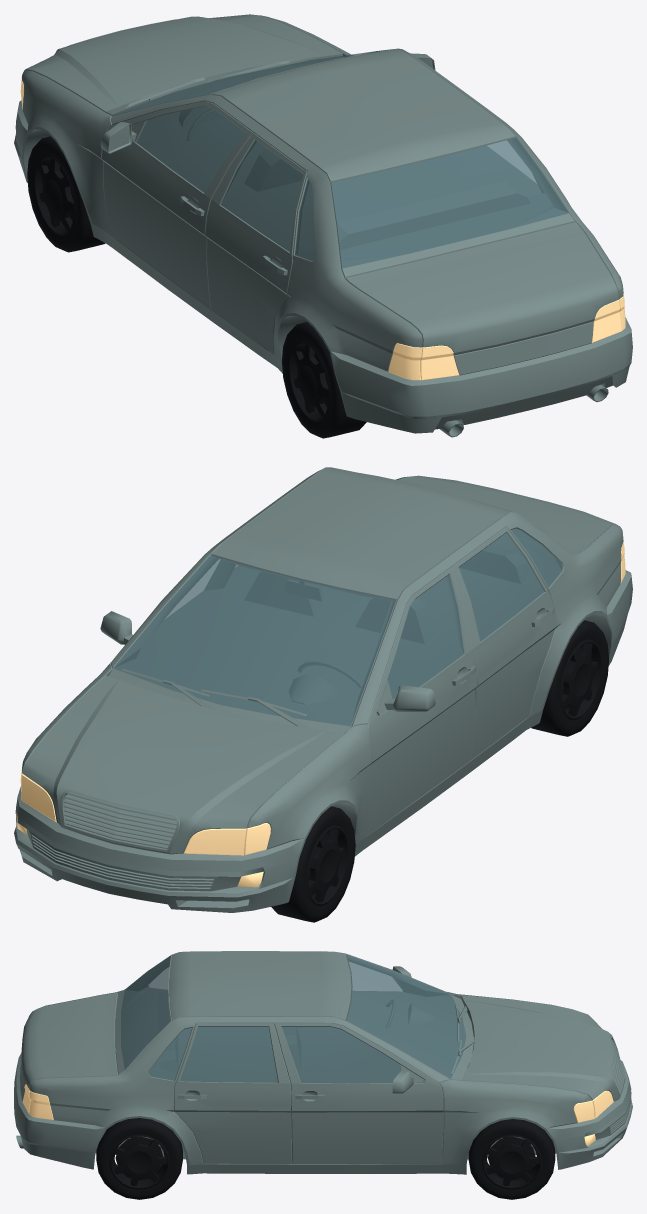
Rendered from sedan.glb.
3 views of the same model, one above another, from view 1: azimuth 30°, elevation 25°; view 2: azimuth 150°, elevation 25°; view 3: azimuth 270°, elevation 25° (orthographic). The views are drawn at different scales.
Visible parts, largest first — view 1: Sedan_Body, Wheel_A001, Wheel_A; view 2: Sedan_Body, Wheel_A, Wheel_A001; view 3: Sedan_Body, Wheel_A003, Wheel_A002.
Boxes of the visible parts, left/top/right/bottom form: Sedan_Body: left=14, top=14, right=632, bottom=437; Wheel_A001: left=282, top=322, right=366, bottom=438; Wheel_A: left=27, top=136, right=105, bottom=252; Sedan_Body: left=14, top=467, right=632, bottom=912; Wheel_A: left=271, top=806, right=355, bottom=922; Wheel_A001: left=531, top=620, right=608, bottom=736; Sedan_Body: left=14, top=951, right=632, bottom=1174; Wheel_A003: left=96, top=1118, right=182, bottom=1199; Wheel_A002: left=468, top=1119, right=555, bottom=1199.
Bounding box in the file's own units: 2.03 × 1.4 × 4.55.
